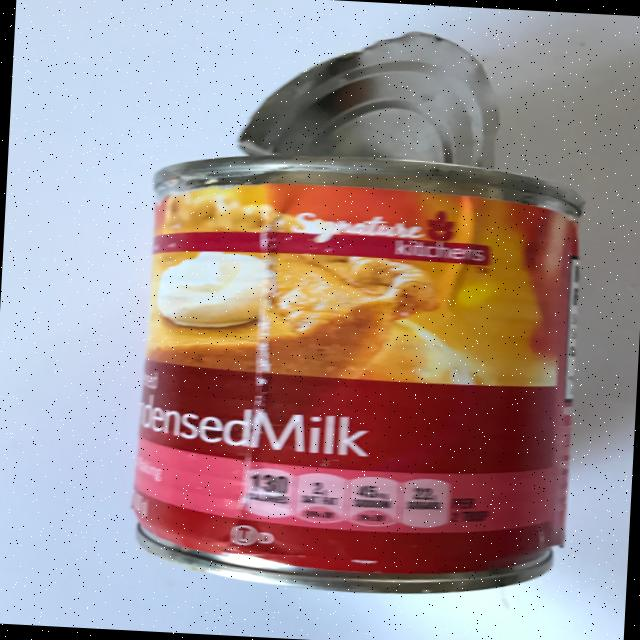metal: (126, 18, 597, 606)
